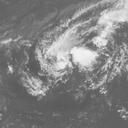cyclone: (72, 45, 97, 71)
